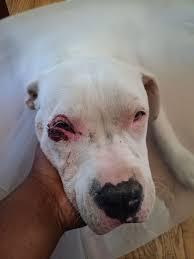cut: (37, 123, 79, 155)
